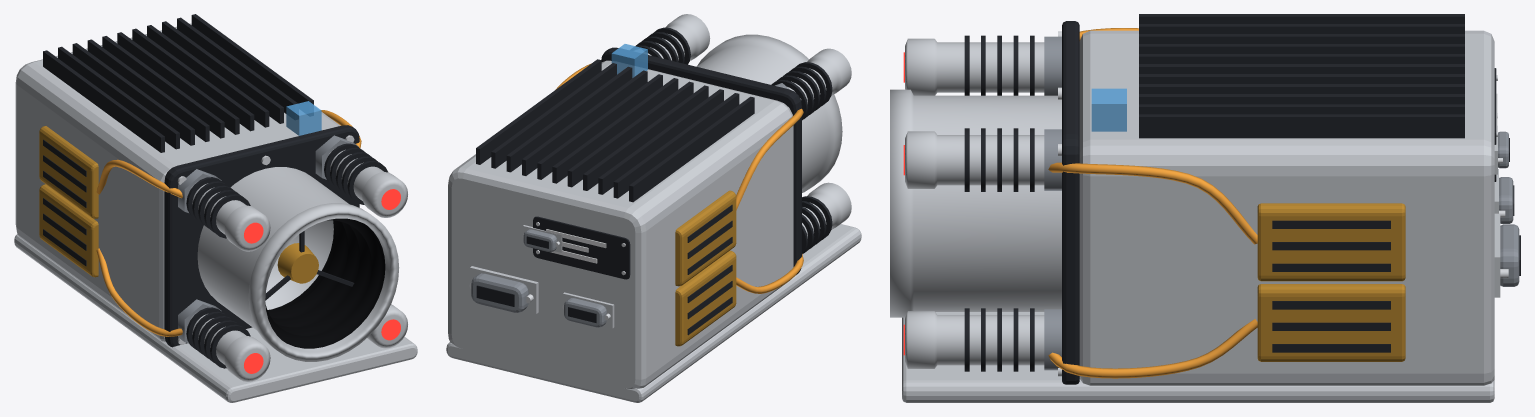
File: inst-laser.glb
3 views of the same model, side by side, from view 1: azimuth 30°, elevation 25°; view 2: azimuth 150°, elevation 25°; view 3: azimuth 270°, elevation 25° (orthographic). The views are drawn at different scales.
Visible parts, largest first — view 1: housing, radiator-fins, receiver-tube, bulkhead, base-plate, receiver-vanes, driver-l-1, driver-l-0, laser-3-barrel, laser-1-barrel, laser-4-barrel, laser-3-cooling-rings (+13 smaller); view 2: housing, radiator-fins, receiver-tube, base-plate, bulkhead, label-plate, driver-l-1, driver-l-0, laser-3-cooling-rings, conn-data-shell, laser-3-barrel, laser-1-cooling-rings (+14 smaller); view 3: housing, radiator-fins, receiver-tube, base-plate, driver-r-1, driver-r-0, laser-2-barrel, laser-4-barrel, laser-3-barrel, bulkhead, driver-ribs-r-0, driver-ribs-r-1 (+12 smaller).
Part boxes in pixels (<box>): housing: <box>15,23,340,341</box>; radiator-fins: <box>43,14,313,152</box>; receiver-tube: <box>197,167,399,361</box>; bulkhead: <box>164,125,359,347</box>; base-plate: <box>14,234,417,402</box>; receiver-vanes: <box>265,218,385,348</box>; driver-l-1: <box>39,126,98,218</box>; driver-l-0: <box>39,184,98,277</box>; laser-3-barrel: <box>188,182,270,251</box>; laser-1-barrel: <box>188,312,270,381</box>; laser-4-barrel: <box>325,148,407,217</box>; laser-3-cooling-rings: <box>186,177,250,238</box>; housing: <box>448,60,793,388</box>; radiator-fins: <box>476,59,754,202</box>; receiver-tube: <box>697,34,842,192</box>; base-plate: <box>446,224,861,402</box>; bulkhead: <box>601,47,801,274</box>; label-plate: <box>533,216,630,279</box>; driver-l-1: <box>675,190,736,286</box>; driver-l-0: <box>675,250,736,346</box>; laser-3-cooling-rings: <box>771,62,832,120</box>; conn-data-shell: <box>471,273,528,312</box>; laser-3-barrel: <box>787,48,851,103</box>; laser-1-cooling-rings: <box>802,196,832,253</box>; housing: <box>1079,30,1494,385</box>; radiator-fins: <box>1139,14,1464,138</box>; receiver-tube: <box>890,89,1061,317</box>; base-plate: <box>902,312,1494,402</box>; driver-r-1: <box>1257,203,1405,281</box>; driver-r-0: <box>1257,284,1405,361</box>; laser-2-barrel: <box>905,311,1044,368</box>; laser-4-barrel: <box>905,131,1044,188</box>; laser-3-barrel: <box>905,38,1044,95</box>; bulkhead: <box>1062,21,1079,384</box>; driver-ribs-r-0: <box>1272,301,1390,352</box>; driver-ribs-r-1: <box>1272,220,1390,271</box>.
Size of the model in its own units: 0.114 by 0.1055 by 0.2129.
